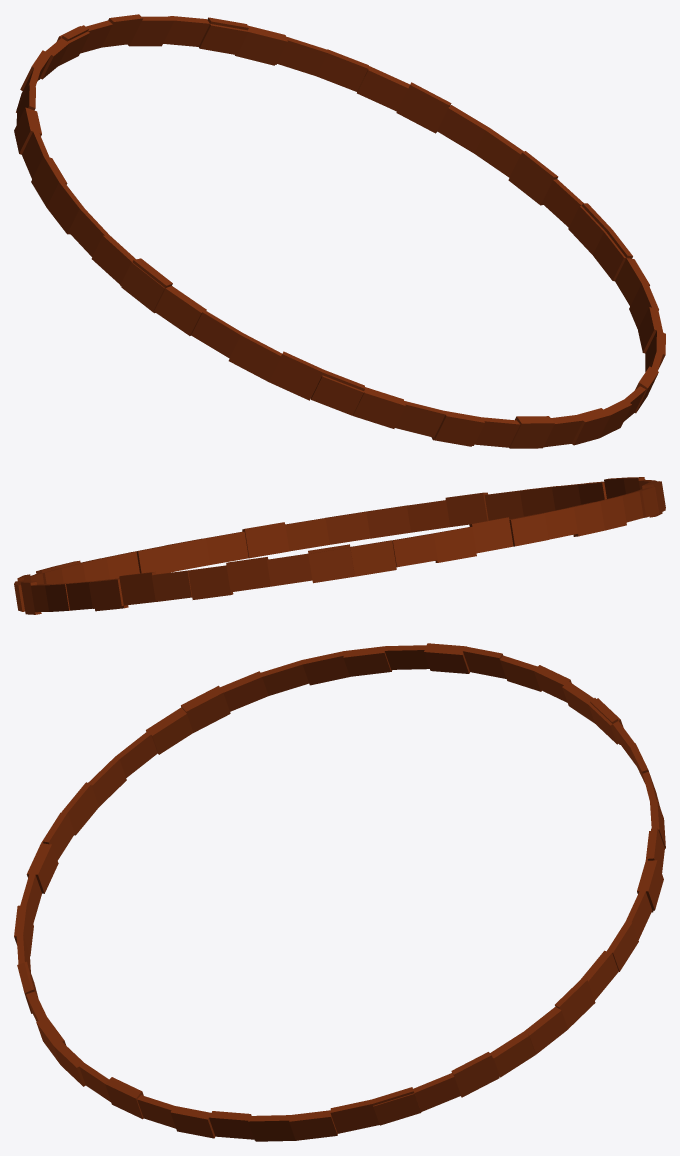
The model's file is ring_big_2.obj.
3 renders of one model, top to bottom at view 1: azimuth 30°, elevation 25°; view 2: azimuth 150°, elevation 25°; view 3: azimuth 270°, elevation 25°, orthographic. The views are drawn at different scales.
Size of the model in its own units: 2.21 by 1.02 by 2.26.
